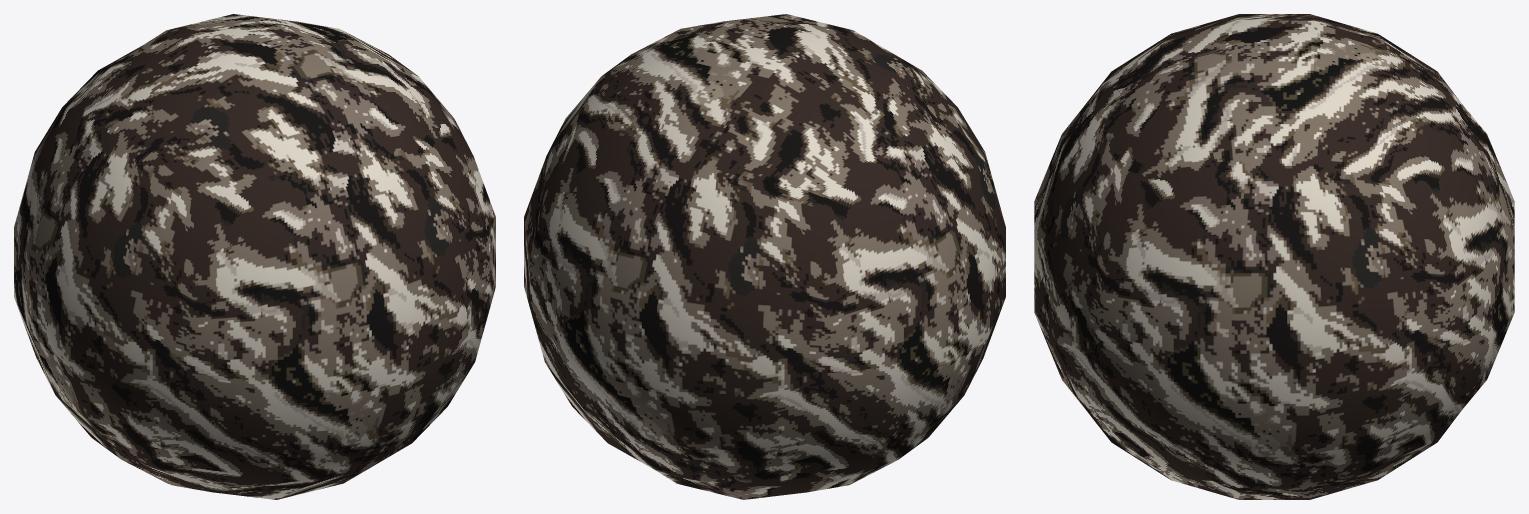
File: gris.glb
3 views of the same model, side by side, from view 1: azimuth 30°, elevation 25°; view 2: azimuth 150°, elevation 25°; view 3: azimuth 270°, elevation 25° (orthographic).
Visible parts, largest first — view 1: Asset3DLoader.sceneRoot; view 2: Asset3DLoader.sceneRoot; view 3: Asset3DLoader.sceneRoot.
Boxes of the visible parts, x1,y1,x2,y2 form: Asset3DLoader.sceneRoot: [14, 14, 495, 499]; Asset3DLoader.sceneRoot: [524, 14, 1005, 499]; Asset3DLoader.sceneRoot: [1034, 14, 1514, 499].
Bounding box in the file's own units: 3.36 × 3.36 × 3.36.
1 material, 1 textured.
